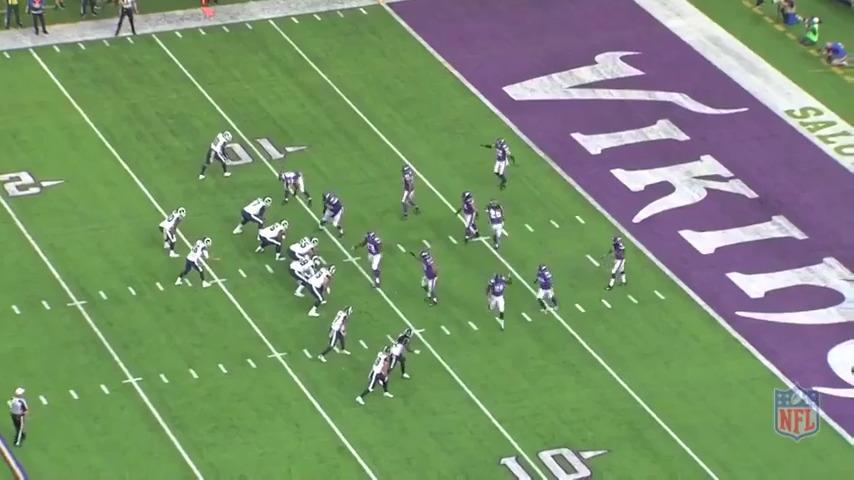defense: (482, 269, 511, 329), (362, 231, 387, 295), (604, 234, 631, 292), (532, 263, 560, 316), (421, 248, 445, 309), (319, 190, 348, 240), (277, 170, 312, 209), (484, 201, 508, 254), (459, 189, 482, 244), (401, 164, 422, 222), (493, 137, 515, 190)
oline: (300, 264, 335, 321), (234, 195, 271, 237), (288, 254, 320, 298), (255, 221, 290, 261), (289, 234, 318, 261)
qb: (176, 235, 213, 289)
ref: (6, 383, 33, 450), (114, 0, 141, 38)
skill: (356, 344, 396, 409), (318, 305, 354, 366), (197, 130, 233, 183), (386, 326, 414, 383), (161, 205, 187, 261)
